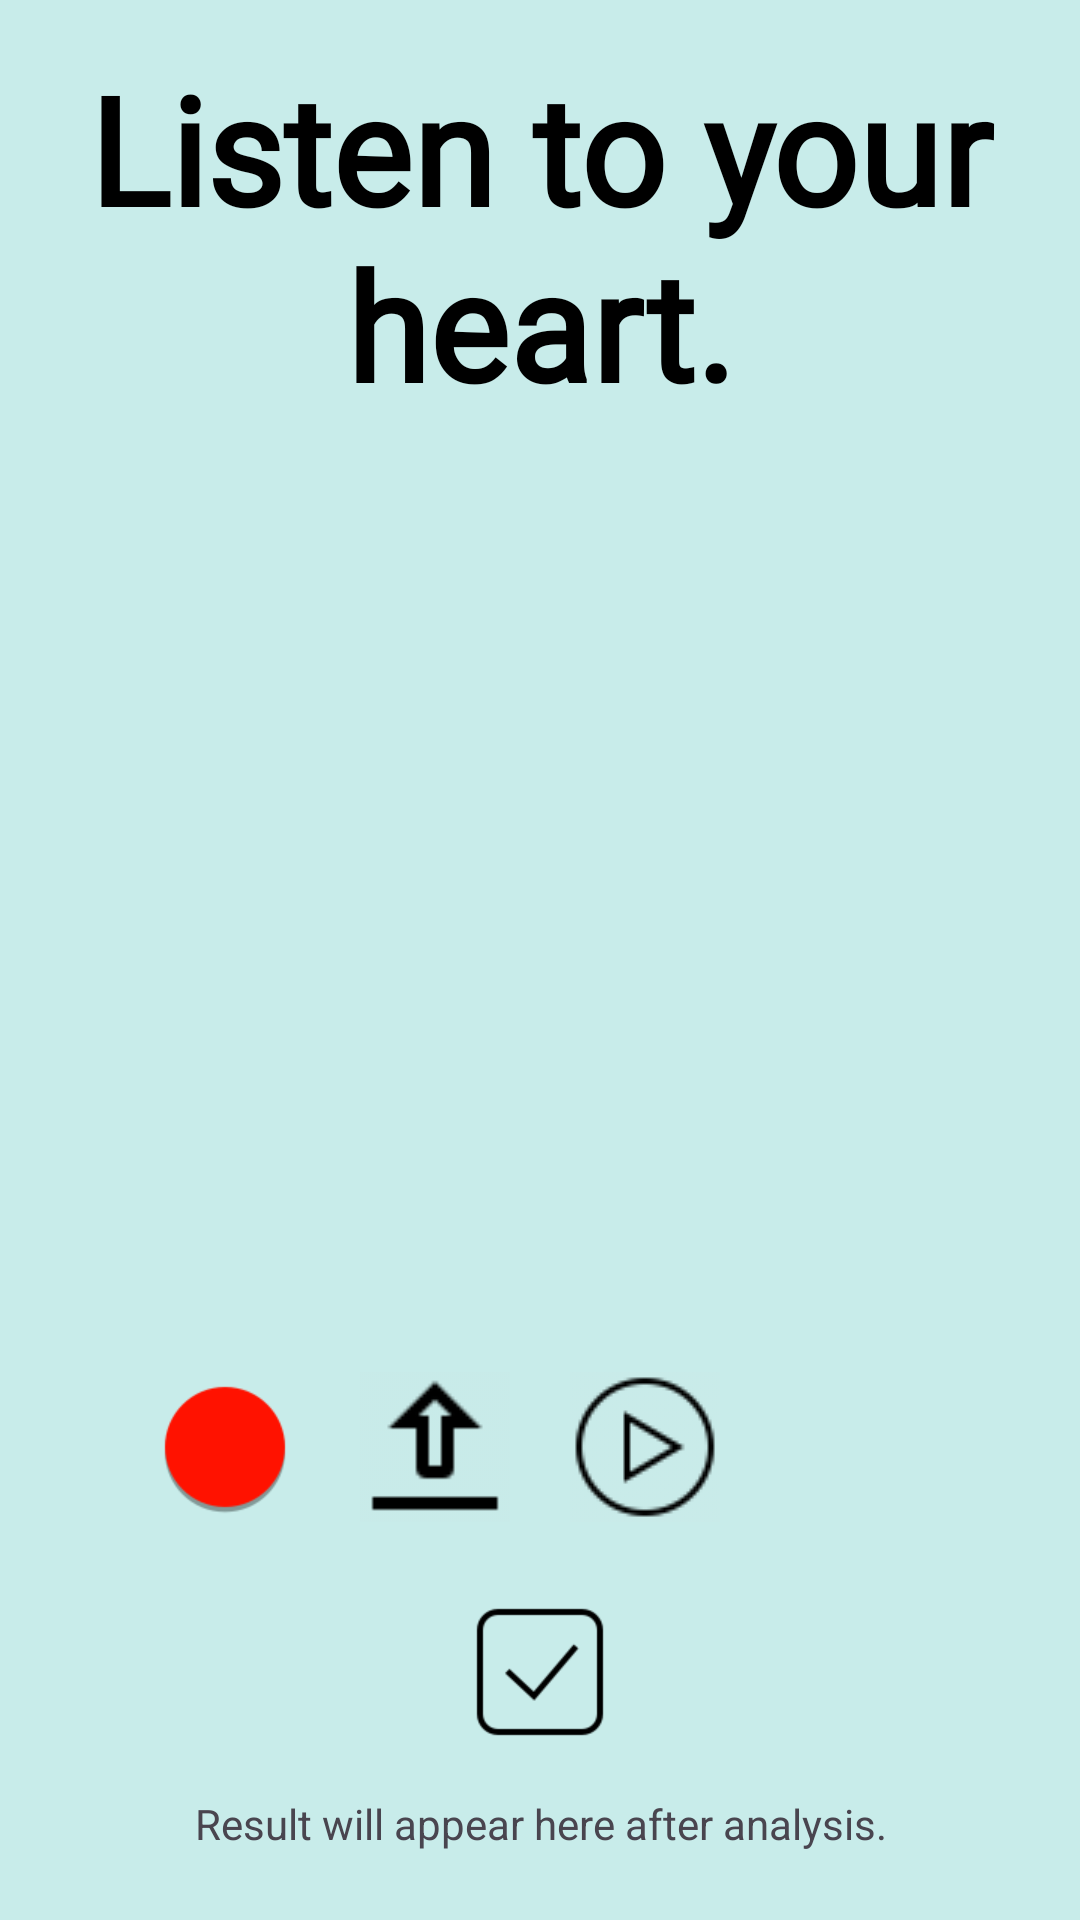

Icons on this 1080 × 1920 Android screen, each with its box as bbox(x1, y1, x2, y2):
cataractsubmiticon: bbox(476, 1608, 604, 1736)
heartlistenicon: bbox(575, 1377, 715, 1517)
heartrecordericon: bbox(164, 1386, 286, 1512)
heartuploadicon: bbox(371, 1381, 499, 1511)
